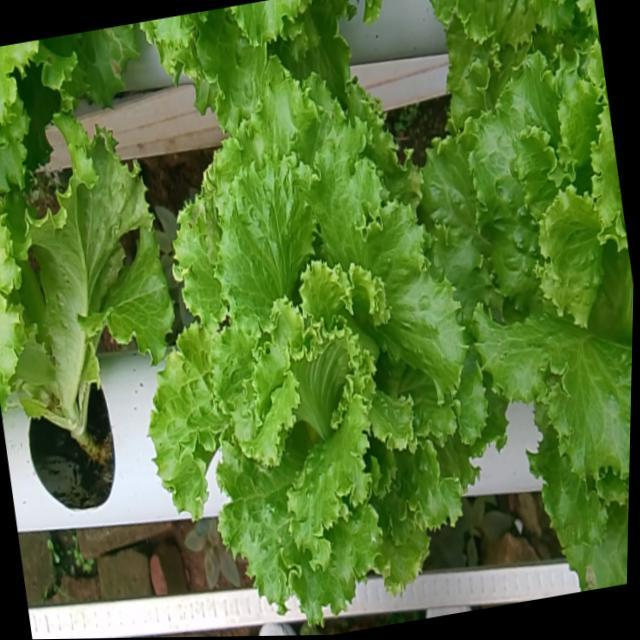Mature: (144, 76, 484, 621), (420, 57, 633, 492)
